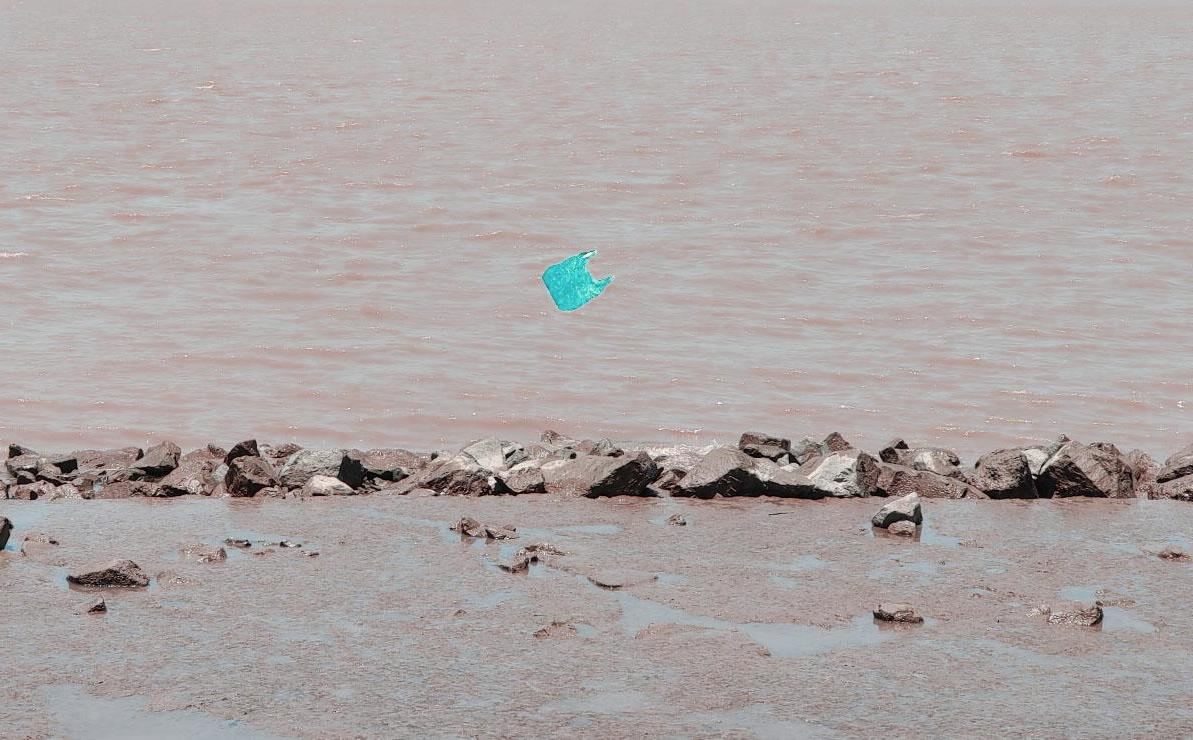Trash: (538, 246, 616, 316)
